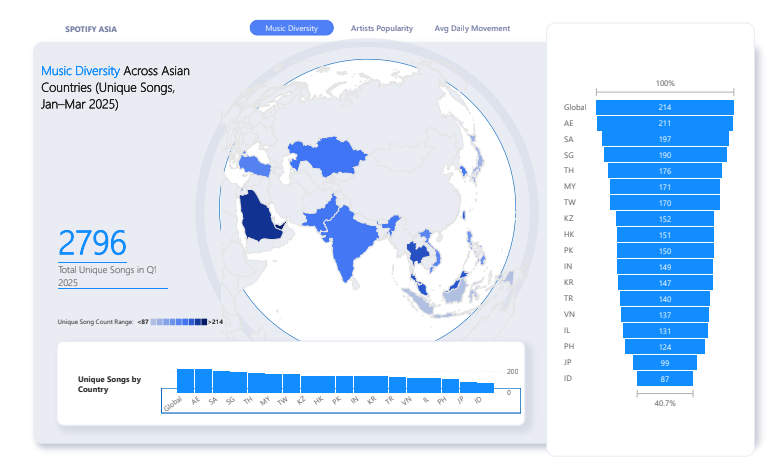

Layout of this report page (visuals, bound fields, positions):
{"tool":"powerbi","page":{"name":"Music Diversity","canvas":[1295,758],"ordinal":0},"visuals":[{"type":"group","id":"g1","title":"Layer 1","box":[41.9,47.1,1211.3,673.3],"z":0,"group":"g6"},{"type":"shape","box":[49.9,59.3,1193,653],"z":0,"group":"g1"},{"type":"shape","box":[354.4,74.4,498.5,502],"z":0,"group":"g2"},{"type":"shape","box":[81,548.9,786.8,142.5],"z":0,"group":"g3"},{"type":"group","id":"g2","title":"Map","box":[253.3,39.8,715.9,599],"z":1000,"group":"g6"},{"type":"shape","box":[314.5,39.8,577,584.1],"z":1000,"group":"g2"},{"type":"shape","box":[41.9,47.1,1211.8,673.6],"z":1000,"group":"g1"},{"type":"shape","box":[81,548.9,786.8,142.5],"z":1000,"group":"g3"},{"type":"shape","box":[256.7,628.3,604.3,41.7],"z":1000,"group":"g4"},{"type":"textbox","box":[112.2,599.2,137.1,44.3],"z":1500,"group":"g5"},{"type":"shape","box":[253.3,47.3,715.9,543.8],"z":2000,"group":"g2"},{"type":"textbox","box":[113,599.2,137.1,44.3],"z":2000,"group":"g6"},{"type":"shapeMap","fields":{"Category":["Table.ISO3"],"Value":["Sum(Query1.Unique Song Count)"]},"box":[353.1,71.9,527.9,567],"z":3000,"group":"g2"},{"type":"group","id":"g3","title":"Trend","box":[81,548.9,786.8,142.5],"z":3000,"group":"g6"},{"type":"columnChart","title":"Global access to electricity","fields":{"Category":["Query1.Country"],"Y":["Sum(Query1.Unique Song Count)"]},"box":[252.8,567.6,610.2,114.3],"z":3000,"group":"g4"},{"type":"textbox","box":[90.6,11.1,276.5,30.2],"z":4000,"group":"g6"},{"type":"pageNavigator","box":[404.8,9.2,446.4,26.8],"z":5000,"group":"g6"},{"type":"group","id":"g4","title":"Group 1","box":[252.8,567.2,610,114.3],"z":6000,"group":"g6"},{"type":"textbox","box":[77.9,501.3,341.5,47.7],"z":7000,"group":"g6"},{"type":"textbox","box":[50,74.3,277.1,118.6],"z":8000,"group":"g6"},{"type":"textbox","box":[78.5,338.6,194.3,135.7],"z":9000,"group":"g6"},{"type":"shape","box":[903.9,14.5,350,728.2],"z":10000,"group":"g6"},{"type":"funnel","fields":{"Category":["Query1.Country"],"Y":["Sum(Query1.Unique Song Count)"]},"box":[928.5,101.5,300,565.7],"z":11000,"group":"g6"},{"type":"group","id":"g5","title":"Visual text 1","box":[112.2,599.2,137.1,44.3],"z":12000,"group":"g6"},{"type":"group","id":"g6","title":"Group 2","box":[41.9,9.2,1212,733.5],"z":12001}]}

Visuals, with their boxes on the page's 1295x758 design canvas (x1, y1, x2, y2). These are canvas units, not pixel positions in the 776x472 screenshot, which may show the page scaled, cropped or inside an application window:
"Layer 1" group: detection(42, 47, 1253, 720)
shape: detection(50, 59, 1243, 712)
shape: detection(354, 74, 853, 576)
shape: detection(81, 549, 868, 691)
"Map" group: detection(253, 40, 969, 639)
shape: detection(314, 40, 892, 624)
shape: detection(42, 47, 1254, 721)
shape: detection(81, 549, 868, 691)
shape: detection(257, 628, 861, 670)
textbox: detection(112, 599, 249, 644)
shape: detection(253, 47, 969, 591)
textbox: detection(113, 599, 250, 644)
shapeMap - Table.ISO3 x Sum(Query1.Unique Song Count): detection(353, 72, 881, 639)
"Trend" group: detection(81, 549, 868, 691)
"Global access to electricity" columnChart: detection(253, 568, 863, 682)
textbox: detection(91, 11, 367, 41)
pageNavigator: detection(405, 9, 851, 36)
"Group 1" group: detection(253, 567, 863, 682)
textbox: detection(78, 501, 419, 549)
textbox: detection(50, 74, 327, 193)
textbox: detection(78, 339, 273, 474)
shape: detection(904, 14, 1254, 743)
funnel - Query1.Country x Sum(Query1.Unique Song Count): detection(928, 102, 1228, 667)
"Visual text 1" group: detection(112, 599, 249, 644)
"Group 2" group: detection(42, 9, 1254, 743)
